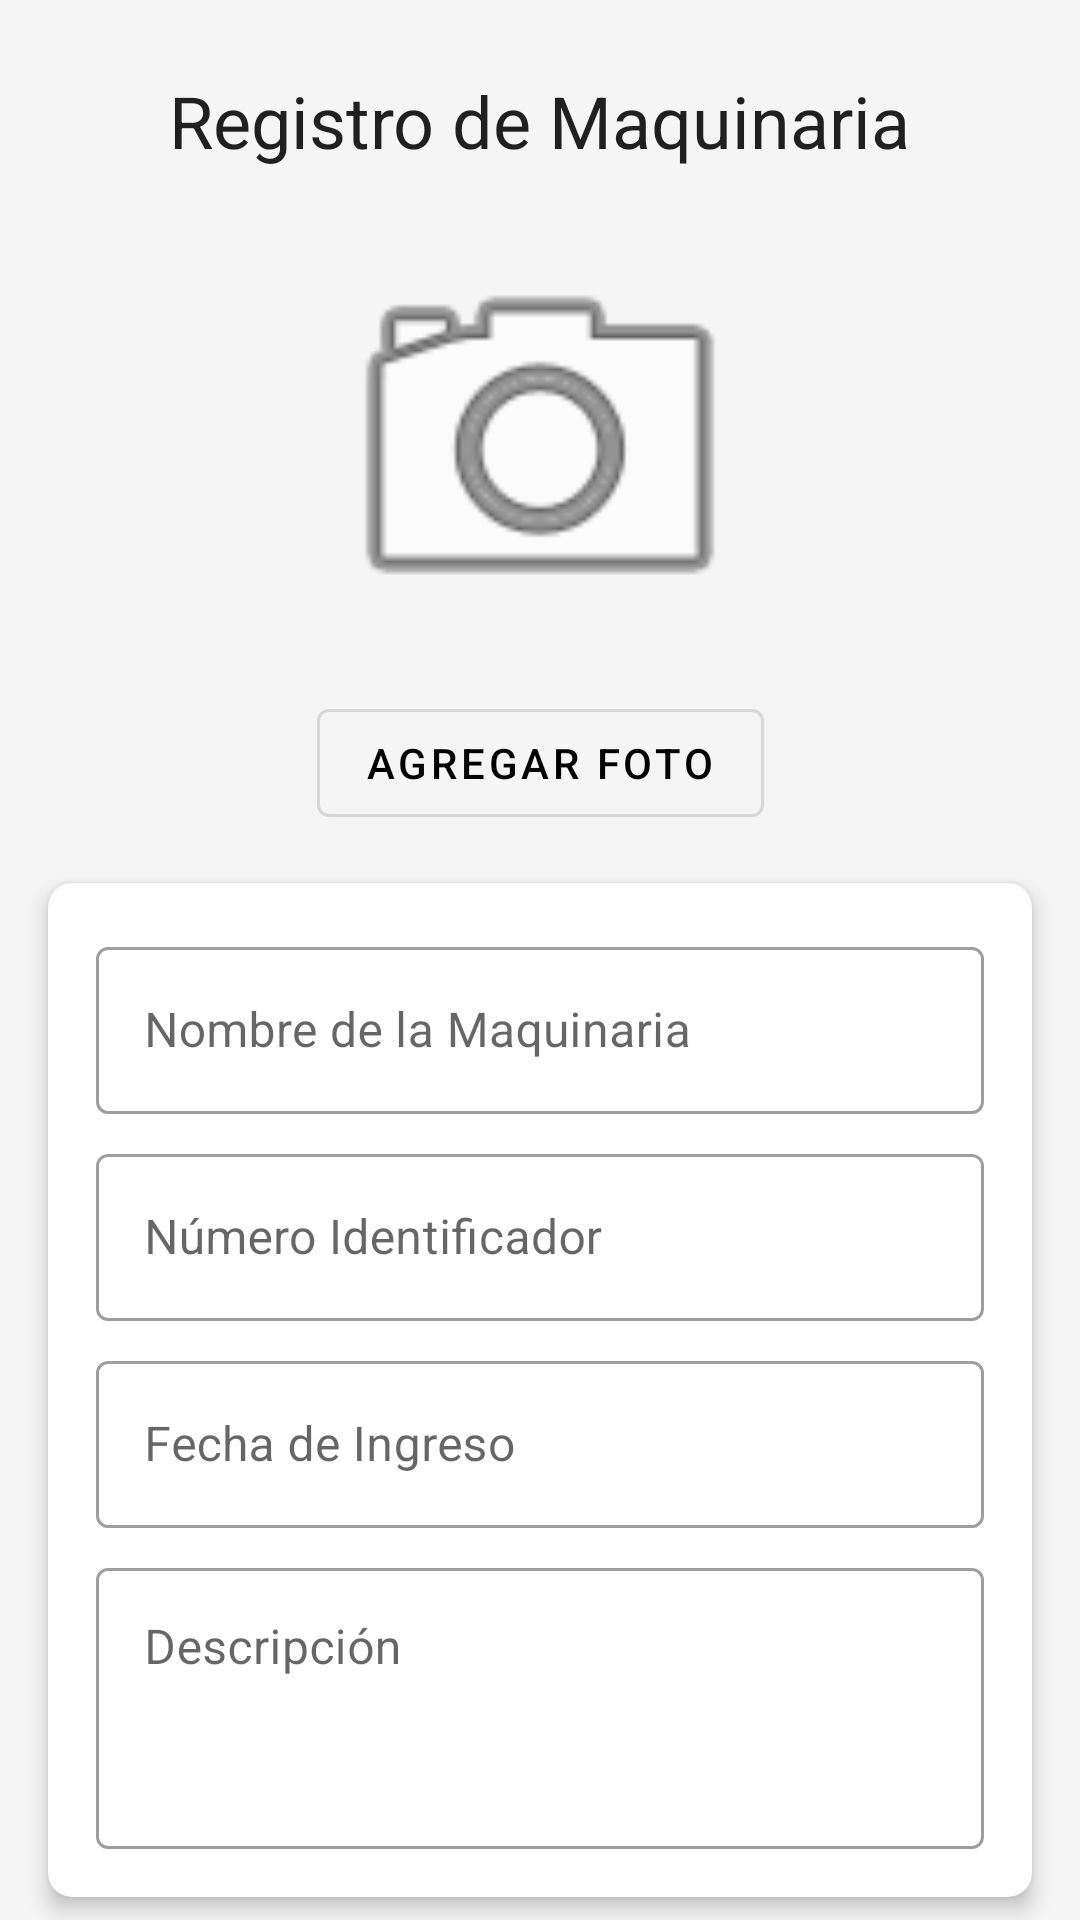

Icon bounding boxes for this 1080 x 1920 phone screenshot, format [x1,y1,x2,y2]:
Imagen de la maquinaria: [366,296,714,574]
